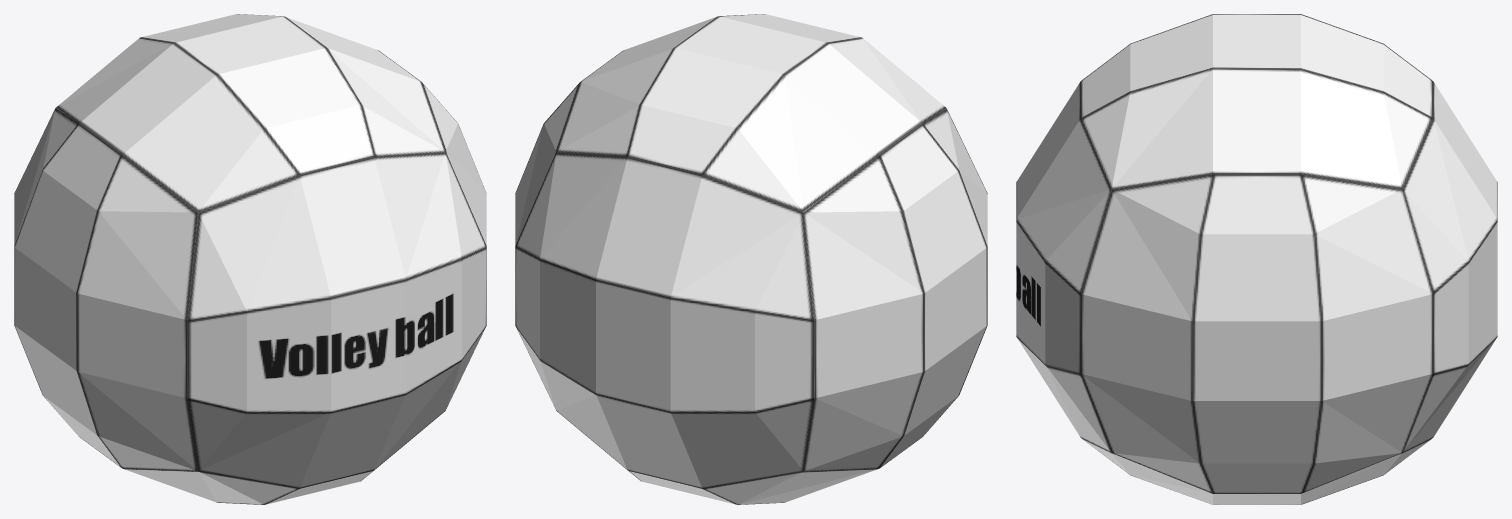
File: VolleyBall.fbx
3 renders of one model, left to right at view 1: azimuth 30°, elevation 25°; view 2: azimuth 150°, elevation 25°; view 3: azimuth 270°, elevation 25°, orthographic.
Visible parts, largest first — view 1: Mesh; view 2: Mesh; view 3: Mesh.
Part boxes in pixels (x1,y1,x2,y2): Mesh: (14,14,486,504); Mesh: (515,14,987,504); Mesh: (1016,14,1497,504).
Bounding box in the file's own units: 20 × 20 × 20.
1 material, 1 textured.
